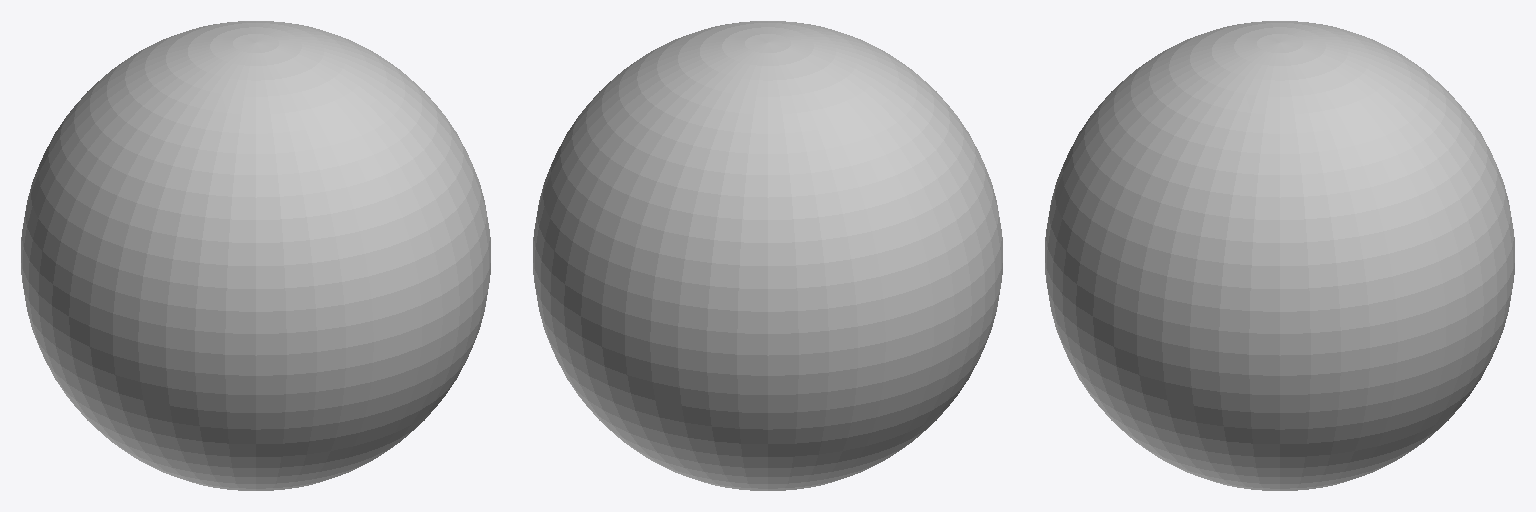
File: dome.obj
The picture shows the model from 3 angles: view 1: azimuth 30°, elevation 25°; view 2: azimuth 150°, elevation 25°; view 3: azimuth 270°, elevation 25°; orthographic projection.
Visible parts, largest first — view 1: Sphere_Sphere.001; view 2: Sphere_Sphere.001; view 3: Sphere_Sphere.001.
Boxes of the visible parts, box(x1,y1,x2,y2) form: Sphere_Sphere.001: box(21, 21, 490, 490); Sphere_Sphere.001: box(533, 21, 1002, 490); Sphere_Sphere.001: box(1045, 21, 1514, 490).
Bounding box in the file's own units: 2 × 2 × 2.